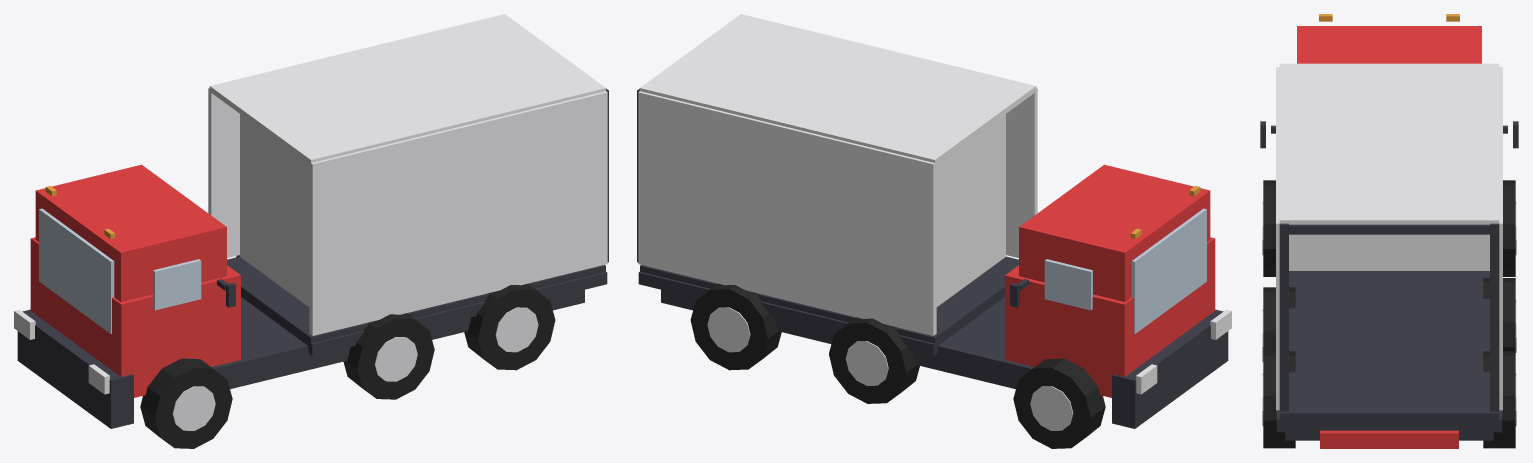
File: BoxTruck.fbx
3 renders of one model, left to right at view 1: azimuth 30°, elevation 25°; view 2: azimuth 150°, elevation 25°; view 3: azimuth 270°, elevation 25°, orthographic. The views are drawn at different scales.
Visible parts, largest first — view 1: CargoBox_Wall_R, CargoBox_Roof, Cab_Upper, Cab_Lower, CargoBox_Wall_Front, Bumper_Front, Frame, Windshield, Wheel_Front_R_Tire, Wheel_Rear1_R_Tire, CargoBox_Wall_L, Wheel_Rear2_R_Tire (+6 smaller); view 2: CargoBox_Wall_L, CargoBox_Roof, Cab_Upper, Cab_Lower, CargoBox_Wall_Front, Bumper_Front, Frame, Windshield, Wheel_Front_L_Tire, Wheel_Rear1_L_Tire, CargoBox_Wall_R, Wheel_Rear2_L_Tire (+6 smaller); view 3: CargoBox_Roof, CargoBox_Floor, CargoBox_Wall_Front, Cab_Upper, CargoBox_Skirt, TailLight, CargoBox_BackFrame_Top, CargoBox_BackFrame_L, CargoBox_BackFrame_R, Wheel_Rear2_L_Tire, Wheel_Rear2_R_Tire, CargoBox_Wall_L (+6 smaller).
Boxes of the visible parts, box(x1,y1,x2,y2) form: CargoBox_Wall_R: box(309, 91, 607, 335); CargoBox_Roof: box(209, 14, 605, 165); Cab_Upper: box(35, 164, 226, 301); Cab_Lower: box(30, 237, 240, 397); CargoBox_Wall_Front: box(240, 114, 309, 306); Bumper_Front: box(17, 309, 133, 428); Frame: box(211, 289, 584, 389); Windshield: box(39, 208, 114, 333); Wheel_Front_R_Tire: box(140, 358, 232, 448); Wheel_Rear1_R_Tire: box(343, 313, 434, 399); CargoBox_Wall_L: box(208, 87, 239, 257); Wheel_Rear2_R_Tire: box(464, 283, 555, 370); CargoBox_Wall_L: box(638, 91, 936, 335); CargoBox_Roof: box(640, 14, 1036, 165); Cab_Upper: box(1019, 164, 1210, 301); Cab_Lower: box(1005, 237, 1215, 397); CargoBox_Wall_Front: box(936, 114, 1005, 306); Bumper_Front: box(1112, 309, 1228, 428); Frame: box(661, 289, 1034, 389); Windshield: box(1131, 208, 1206, 333); Wheel_Front_L_Tire: box(1013, 358, 1105, 448); Wheel_Rear1_L_Tire: box(829, 317, 919, 403); CargoBox_Wall_R: box(1006, 87, 1037, 257); Wheel_Rear2_L_Tire: box(690, 283, 781, 370); CargoBox_Roof: box(1279, 63, 1499, 224); CargoBox_Floor: box(1279, 271, 1499, 419); CargoBox_Wall_Front: box(1289, 234, 1489, 270); Cab_Upper: box(1297, 26, 1481, 63); CargoBox_Skirt: box(1276, 410, 1502, 432); TailLight: box(1320, 430, 1458, 448); CargoBox_BackFrame_Top: box(1288, 224, 1490, 234); CargoBox_BackFrame_L: box(1490, 223, 1499, 411); CargoBox_BackFrame_R: box(1279, 223, 1288, 411); Wheel_Rear2_L_Tire: box(1483, 351, 1515, 448); Wheel_Rear2_R_Tire: box(1263, 351, 1295, 448); CargoBox_Wall_L: box(1499, 67, 1502, 410).
Bounding box in the file's own units: 545 × 262 × 224.
